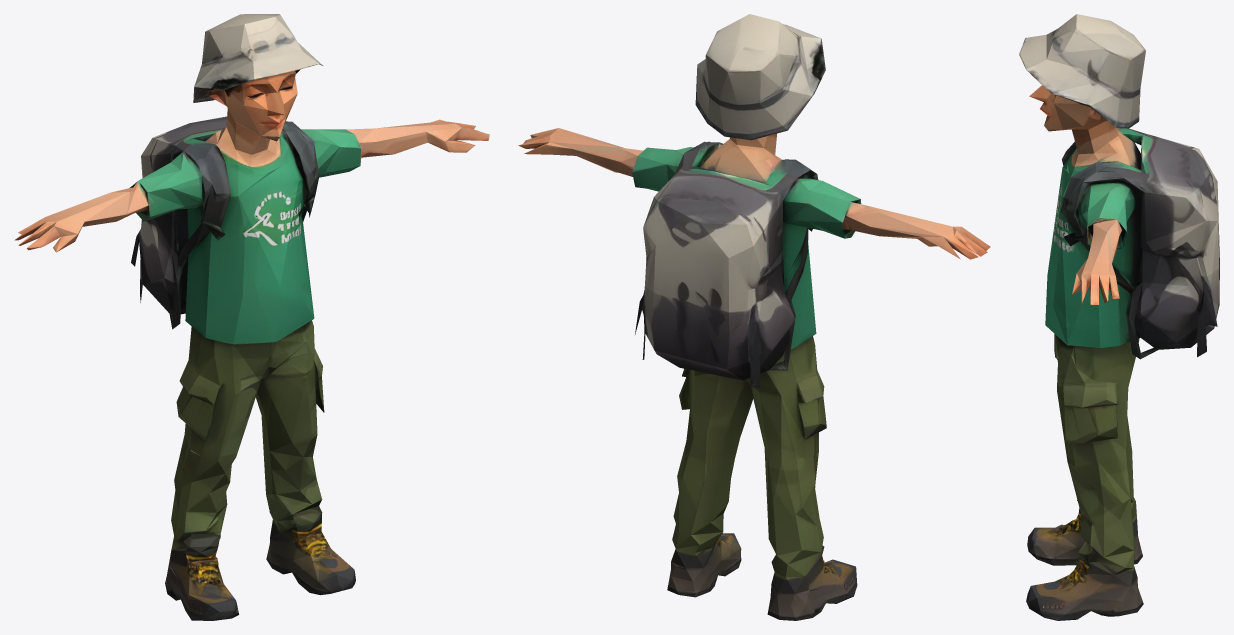
File: main-character.glb
3 views of the same model, side by side, from view 1: azimuth 30°, elevation 25°; view 2: azimuth 150°, elevation 25°; view 3: azimuth 270°, elevation 25° (orthographic). The views are drawn at different scales.
Visible parts, largest first — view 1: model; view 2: model; view 3: model.
Part boxes in pixels (bbox=[...]): model: bbox=[14, 14, 489, 620]; model: bbox=[518, 14, 990, 620]; model: bbox=[1019, 14, 1219, 620].
Bounding box in the file's own units: 1.52 × 1.78 × 0.577.
Materials: 1 (1 with a texture image).
